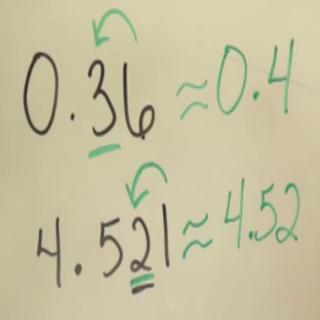.: (72, 261, 84, 278), (250, 87, 262, 103), (246, 228, 254, 242), (68, 110, 77, 122)
0: (22, 51, 61, 137), (214, 43, 249, 116)
1: (159, 200, 174, 268)
2: (274, 179, 301, 245), (128, 215, 157, 273)
3: (85, 59, 117, 138)
4: (33, 215, 66, 289), (266, 37, 294, 115), (222, 177, 246, 249)
5: (96, 217, 127, 279), (254, 184, 277, 241)
6: (121, 59, 156, 142)
